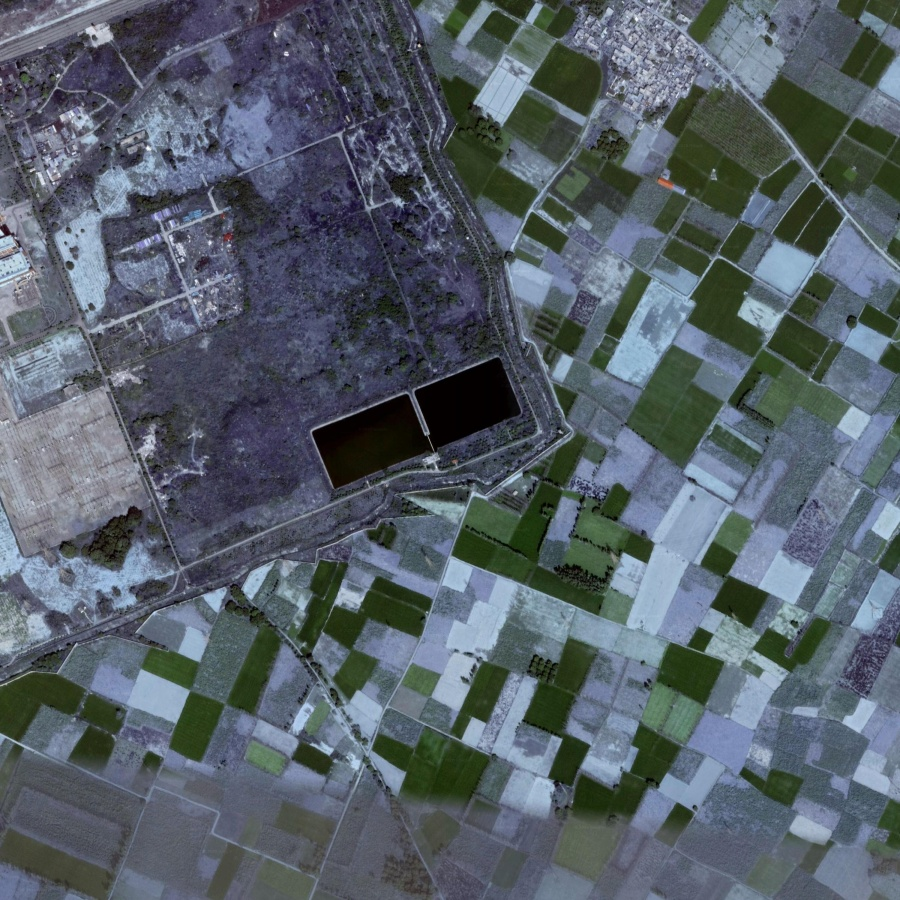PowerPlant: (291, 337, 532, 523)
